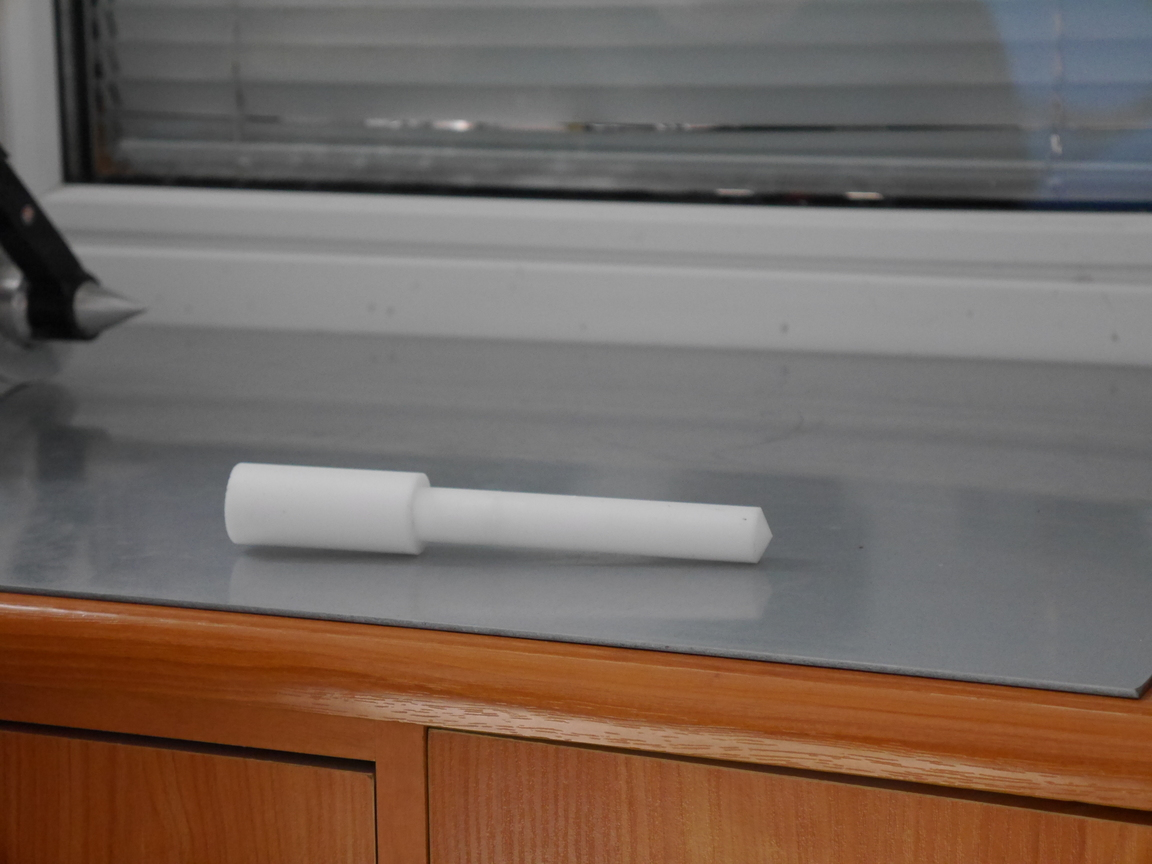cargo_g: (223, 461, 772, 568)
